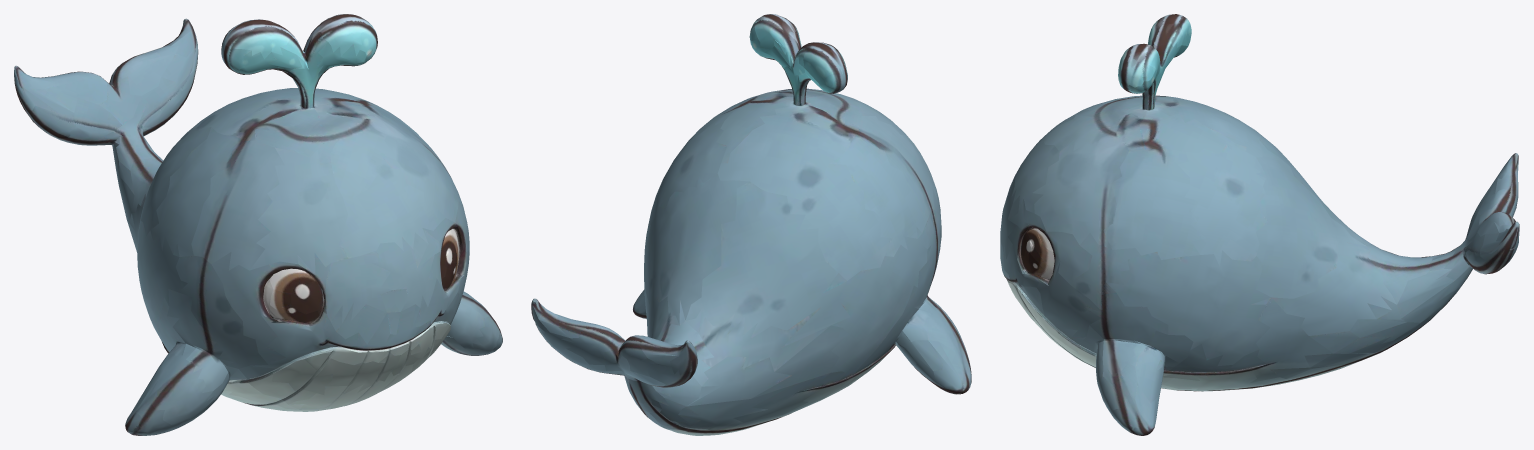
File: pet_bluey.glb
The picture shows the model from 3 angles, left to right: view 1: azimuth 30°, elevation 25°; view 2: azimuth 150°, elevation 25°; view 3: azimuth 270°, elevation 25°; orthographic projection. The views are drawn at different scales.
Bounding box in the file's own units: 1.39 × 1.4 × 1.9.
1 material, 1 textured.
